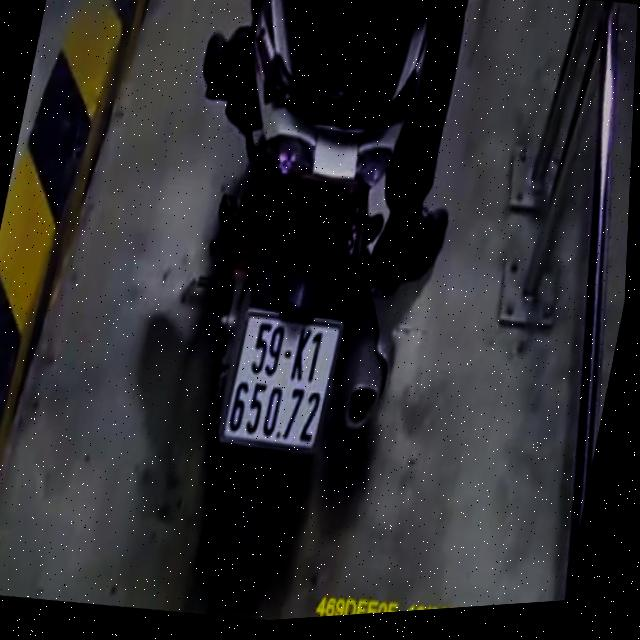motorcycle: (127, 0, 475, 623)
plate: (206, 295, 351, 466)
